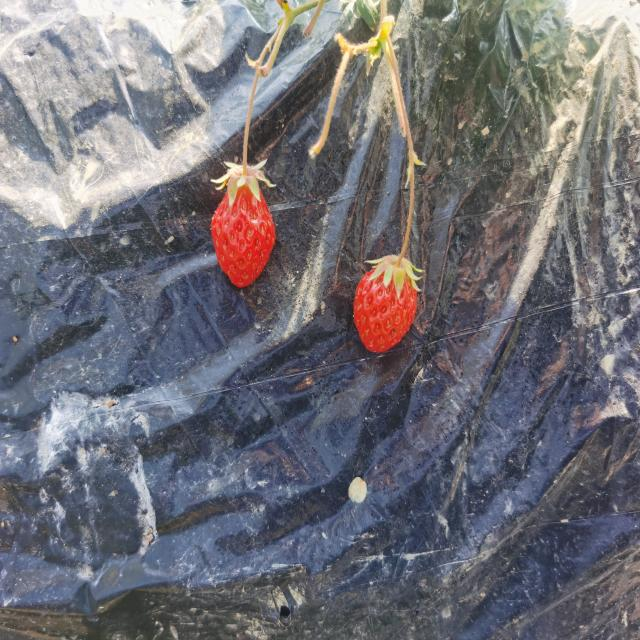stem: (394, 229, 410, 269), (243, 134, 248, 177)
strawberry: (211, 168, 276, 287), (353, 259, 417, 354)
